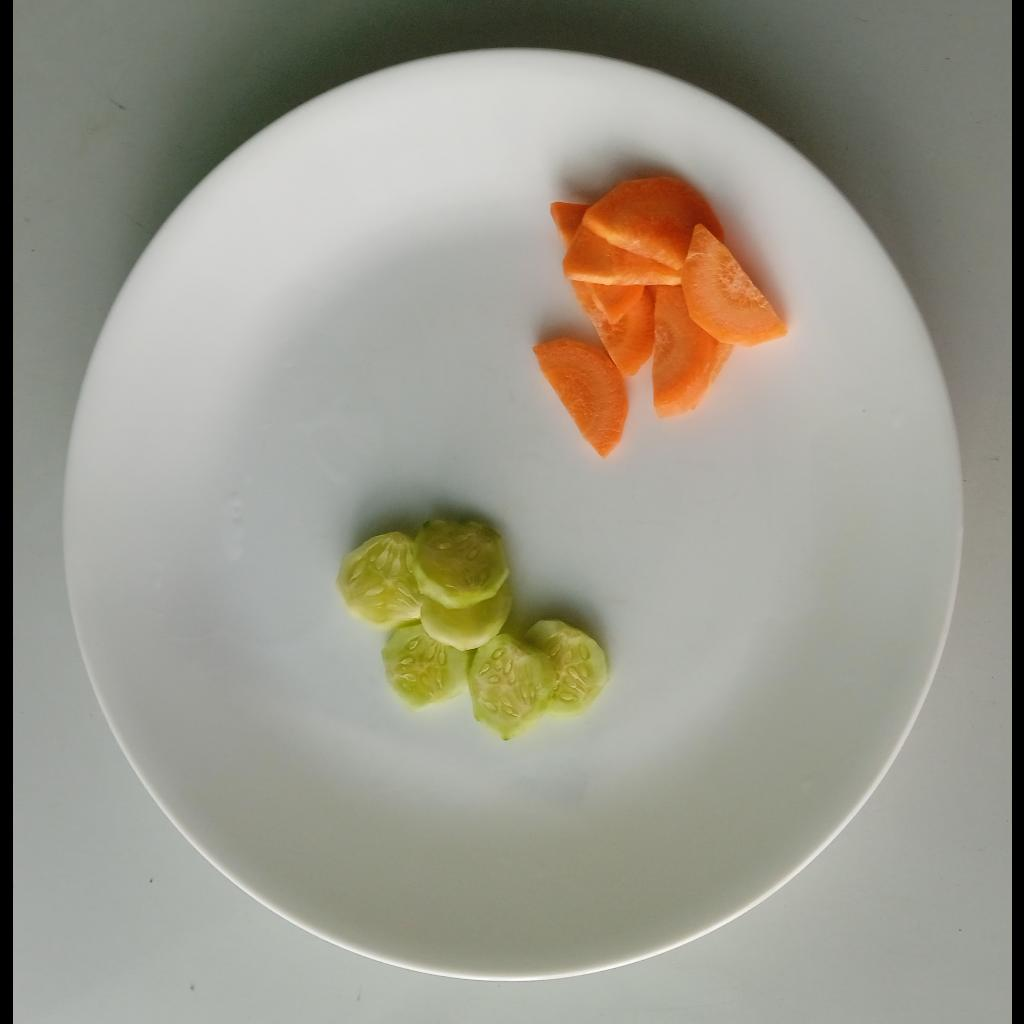carrot: (529, 175, 792, 463)
cucumber: (335, 514, 610, 740)
